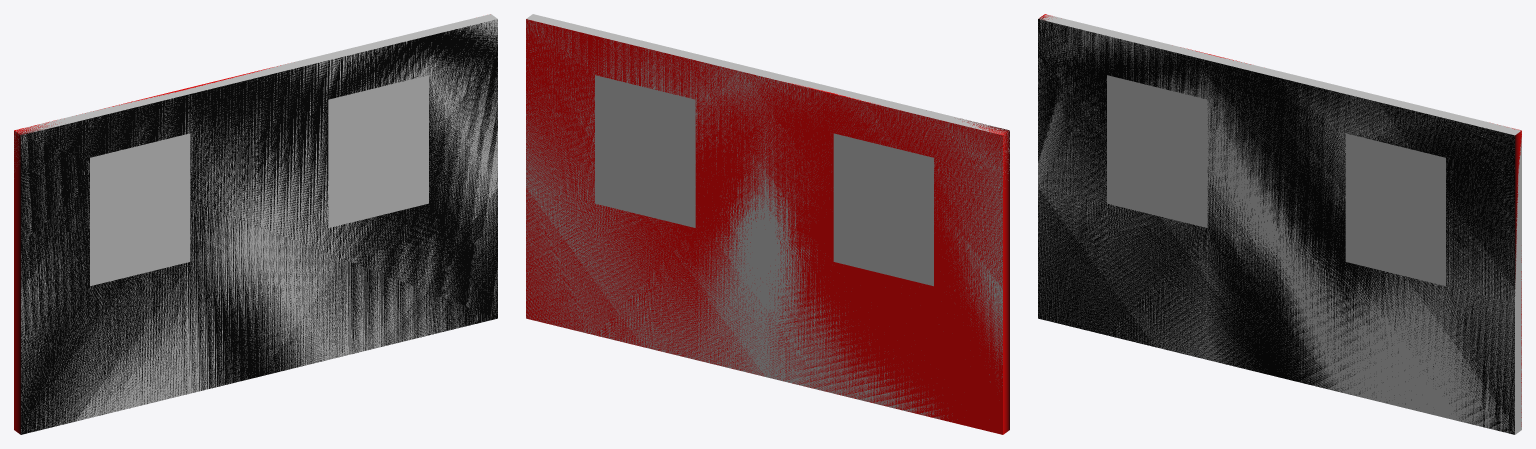
Rendered from SM_His_Sal_Wall_Window_Modular_01.fbx.
3 views of the same model, side by side, from view 1: azimuth 30°, elevation 25°; view 2: azimuth 150°, elevation 25°; view 3: azimuth 330°, elevation 25° (orthographic).
Parts seen in each view (by area): view 1: SM_His_Sal_Wall_Window_Modular_01, SM_His_Sal_Wall_Window_Modular_01_ConvexHulls; view 2: SM_His_Sal_Wall_Window_Modular_01, SM_His_Sal_Wall_Window_Modular_01_ConvexHulls; view 3: SM_His_Sal_Wall_Window_Modular_01_ConvexHulls, SM_His_Sal_Wall_Window_Modular_01.
Boxes of the visible parts, x1,y1,x2,y2 form: SM_His_Sal_Wall_Window_Modular_01: [14, 20, 497, 434]; SM_His_Sal_Wall_Window_Modular_01_ConvexHulls: [14, 14, 497, 433]; SM_His_Sal_Wall_Window_Modular_01: [526, 19, 1009, 434]; SM_His_Sal_Wall_Window_Modular_01_ConvexHulls: [526, 14, 1009, 421]; SM_His_Sal_Wall_Window_Modular_01_ConvexHulls: [1038, 14, 1521, 434]; SM_His_Sal_Wall_Window_Modular_01: [1038, 14, 1521, 434].
Size of the model in its own units: 400 by 10 by 240.
